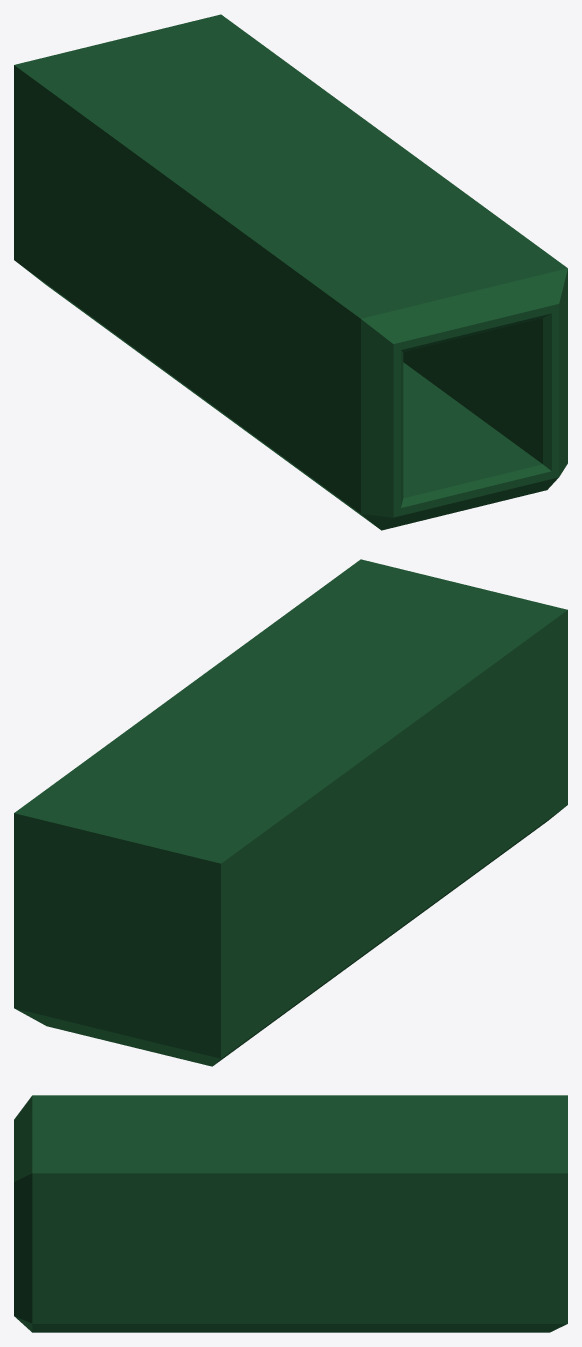
The model's file is Holow_Cuboid.fbx.
The picture shows the model from 3 angles, top to bottom: view 1: azimuth 30°, elevation 25°; view 2: azimuth 150°, elevation 25°; view 3: azimuth 270°, elevation 25°; orthographic projection. The views are drawn at different scales.
Visible parts, largest first — view 1: Hollow_Cuboid; view 2: Hollow_Cuboid; view 3: Hollow_Cuboid.
Boxes of the visible parts, bbox=[...] form: Hollow_Cuboid: bbox=[14, 14, 567, 530]; Hollow_Cuboid: bbox=[14, 559, 567, 1066]; Hollow_Cuboid: bbox=[14, 1095, 567, 1332].
Bounding box in the file's own units: 100 × 100 × 300.
